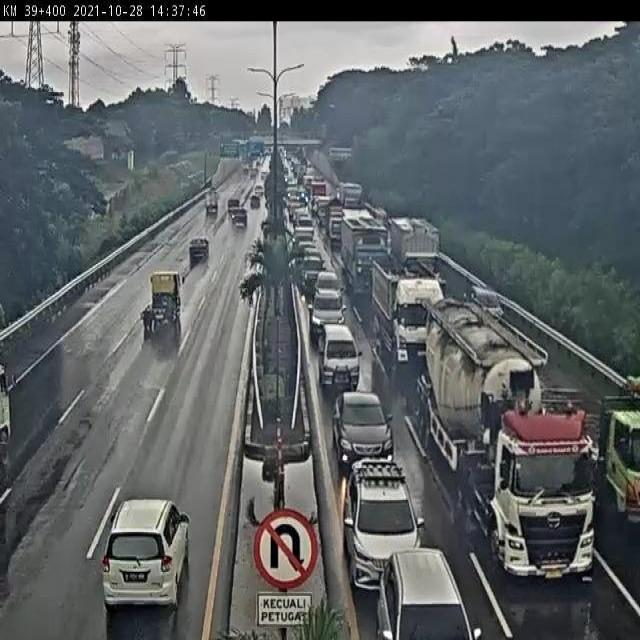big truck: (415, 288, 617, 584), (582, 360, 640, 555), (371, 266, 460, 371), (389, 216, 450, 296), (0, 332, 27, 508), (340, 216, 396, 296)
car: (89, 496, 194, 628), (338, 449, 426, 584), (376, 534, 473, 640), (329, 386, 394, 466), (318, 323, 367, 397), (459, 277, 507, 332), (305, 290, 352, 338), (183, 224, 211, 269), (298, 251, 326, 296), (313, 268, 345, 293), (228, 204, 248, 227)
small truck: (140, 271, 185, 345)
